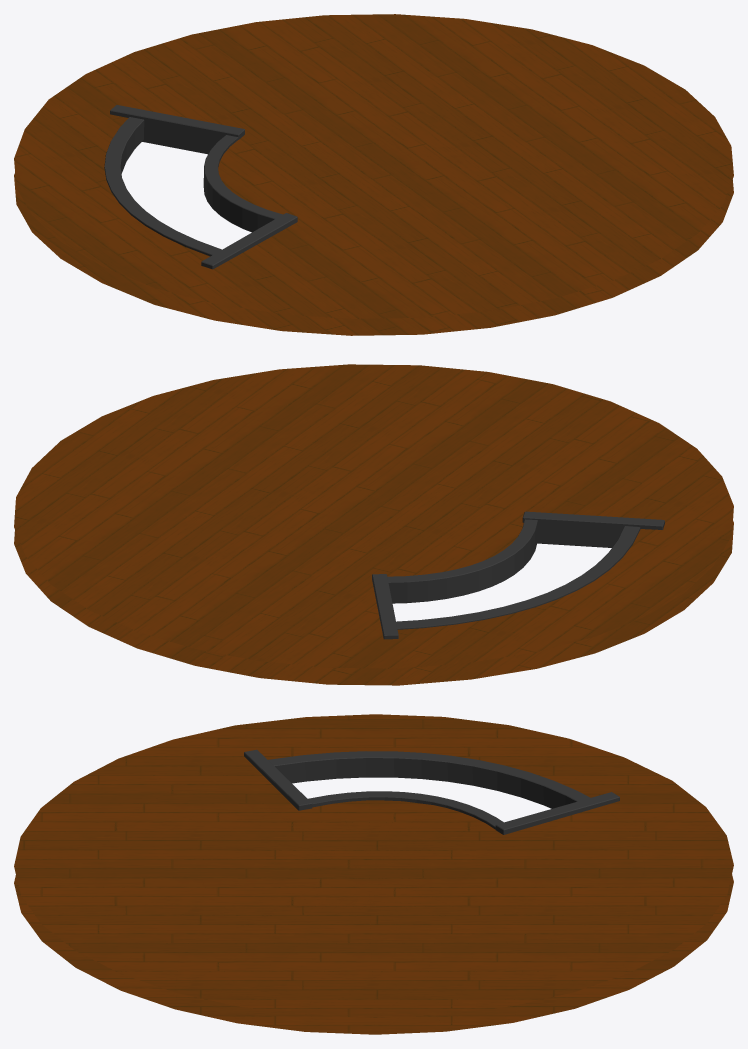
Rendered from SM_FloorWood_Top.FBX.
The picture shows the model from 3 angles, top to bottom: view 1: azimuth 30°, elevation 25°; view 2: azimuth 150°, elevation 25°; view 3: azimuth 270°, elevation 25°; orthographic projection.
Visible parts, largest first — view 1: SM_FloorWood_Top; view 2: SM_FloorWood_Top; view 3: SM_FloorWood_Top.
Part boxes in pixels (box(x1,y1,x2,y2)): SM_FloorWood_Top: box(14, 14, 733, 335); SM_FloorWood_Top: box(14, 364, 733, 685); SM_FloorWood_Top: box(14, 714, 733, 1034).
Bounding box in the file's own units: 1525 × 1528 × 62.86.
